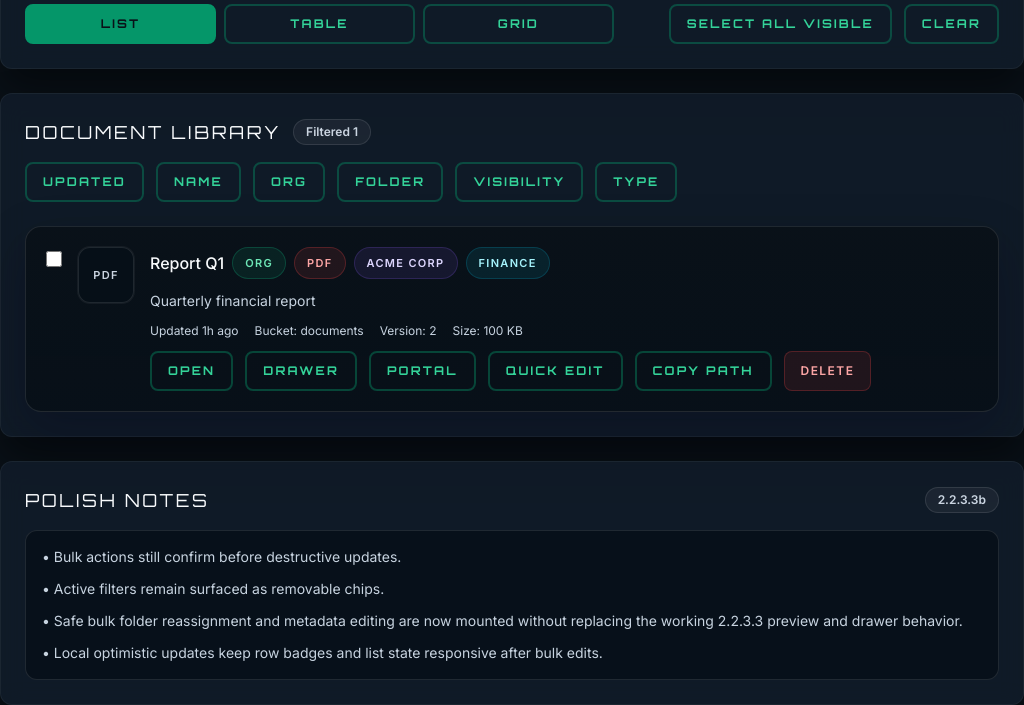
Test: AdminDocumentsCenterClient › quick edit panel › hides quick edit panel when Cancel clicked
(page scrolled)
Click the button "Quick Edit". click: [555, 371]
box: [488,351,623,391]
(page scrolled)
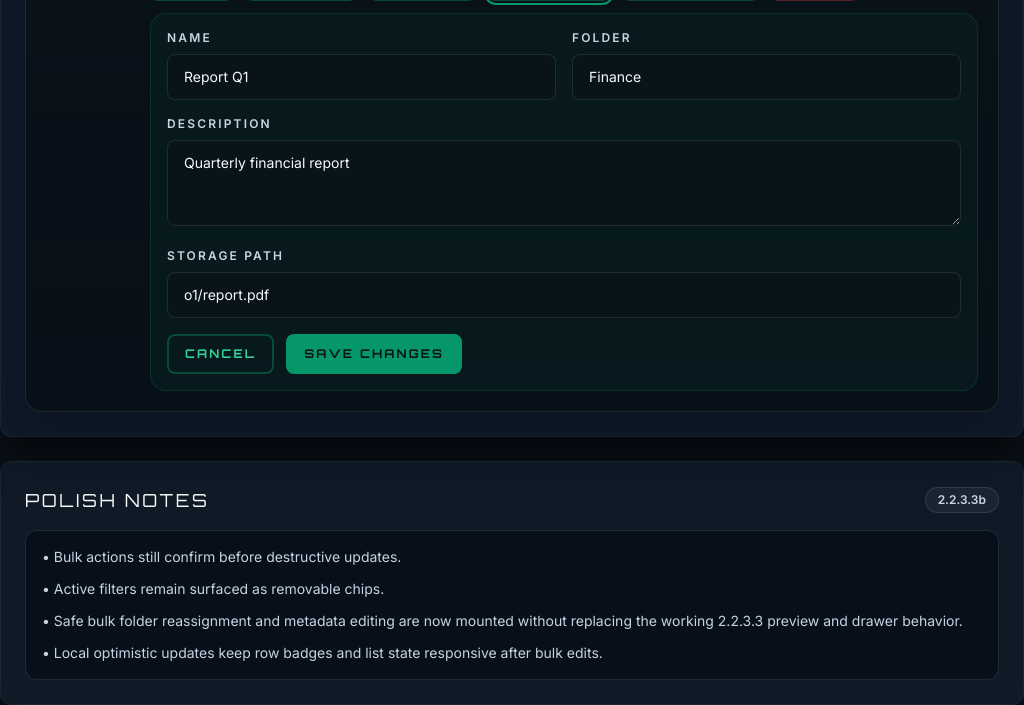
Click the button "Cancel". click: [221, 354]
box: [167,334,274,374]
(page scrolled)
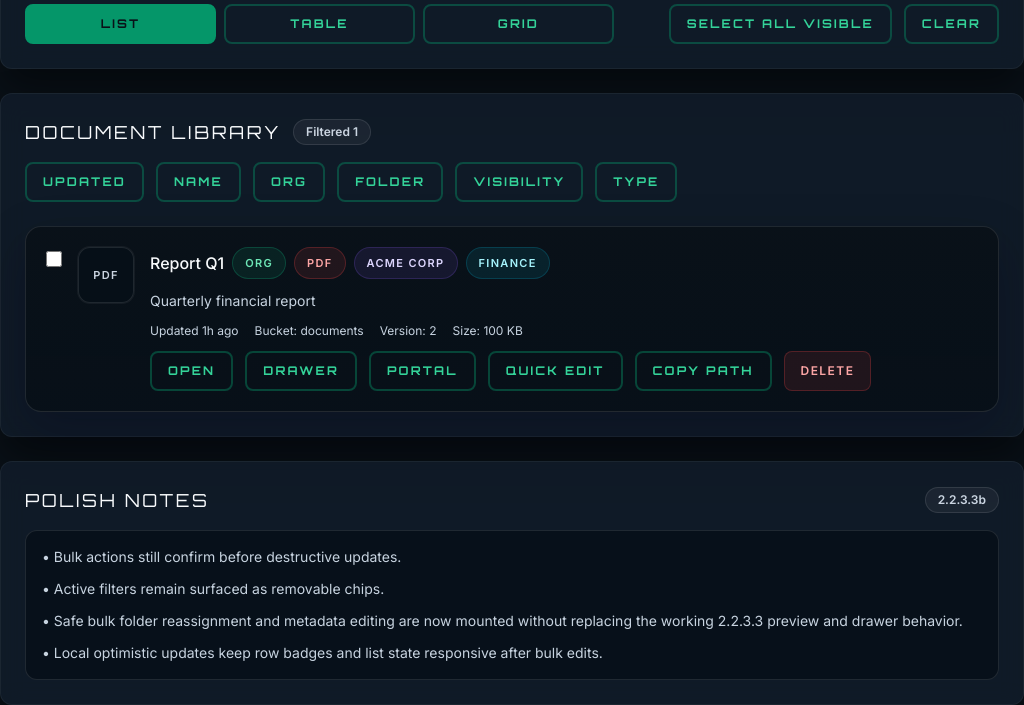
Result: the button "Save changes" is gone
